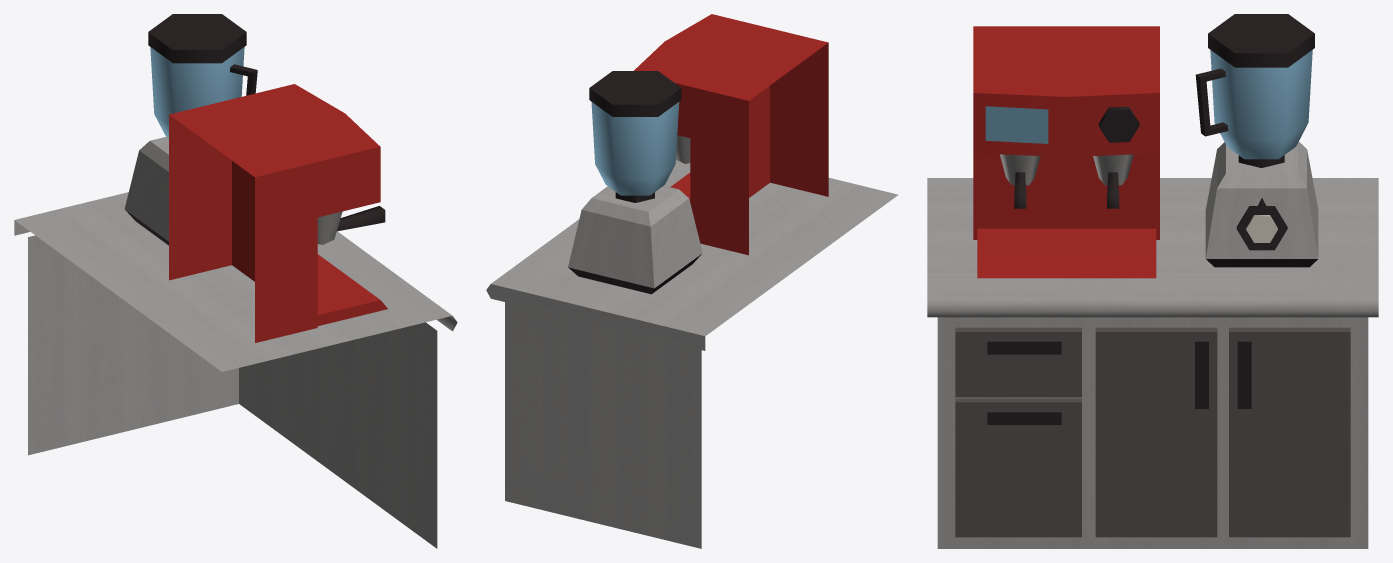
The model's file is interior_B_007.fbx.
3 renders of one model, left to right at view 1: azimuth 30°, elevation 25°; view 2: azimuth 150°, elevation 25°; view 3: azimuth 270°, elevation 25°, orthographic. The views are drawn at different scales.
Parts seen in each view (by area): view 1: interior_B_007; view 2: interior_B_007; view 3: interior_B_007.
Part boxes in pixels (<box>): interior_B_007: <box>14,14,457,548</box>; interior_B_007: <box>486,14,898,548</box>; interior_B_007: <box>927,14,1378,548</box>.
Size of the model in its own units: 77.01 by 134 by 118.
